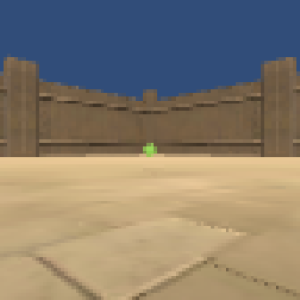goodGoal: (141, 142, 158, 158)
